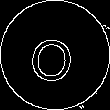O_N: (30, 27, 80, 83)
